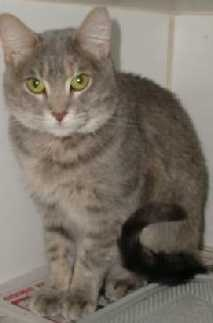Cat: (0, 7, 208, 299)
